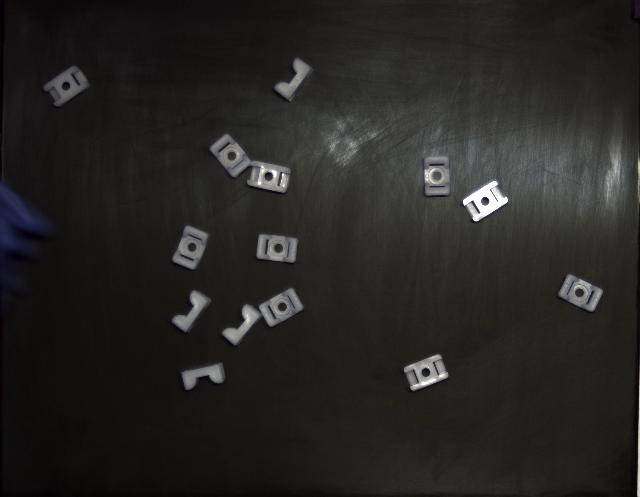first_side: (210, 134, 251, 178), (259, 289, 304, 328), (172, 226, 209, 270), (558, 275, 602, 312), (256, 234, 298, 264), (424, 156, 450, 196)
second_side: (44, 66, 90, 108), (462, 181, 508, 222), (404, 355, 449, 391), (248, 161, 291, 194)
third_side: (171, 290, 211, 332), (274, 58, 312, 101), (222, 305, 261, 346), (181, 364, 225, 391)
